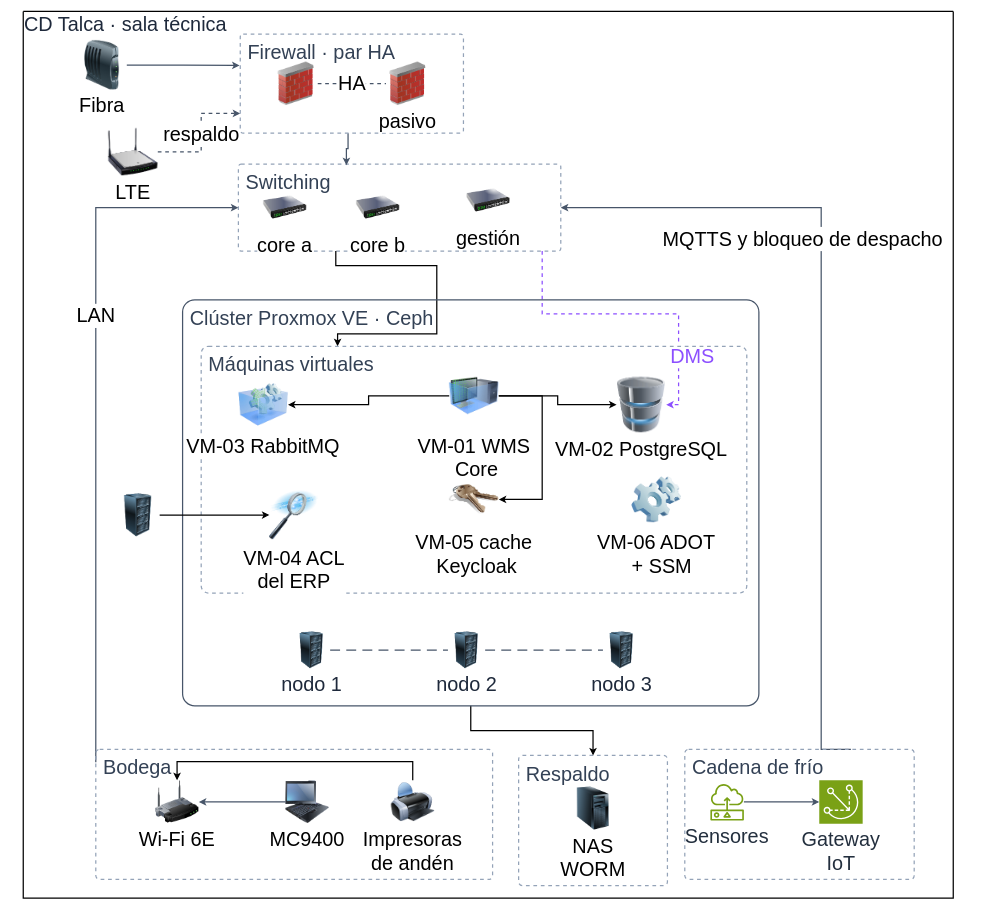
Image size: 991x921. Some labels were removed from this diagram. Here are the shapes that lost their labels. From the top down, the centre of each, then its label:
[295,83]: activo
[137,514]: ERP 2017
